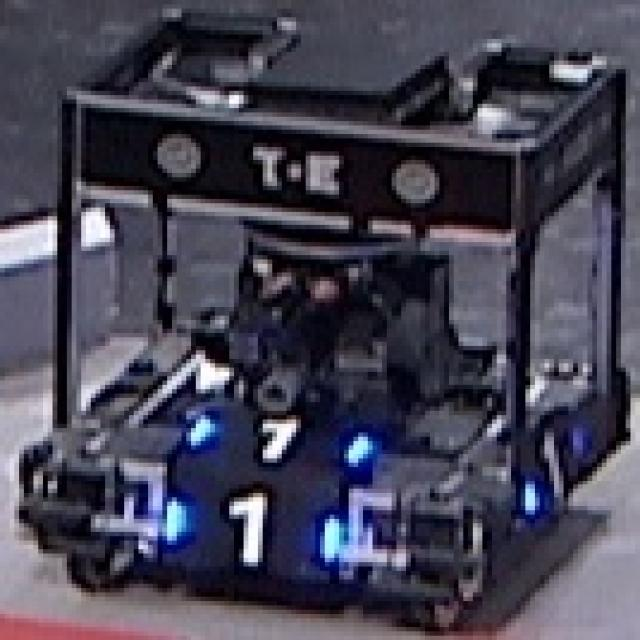B1: (162, 480, 344, 571), (191, 402, 363, 476), (516, 411, 587, 510)
